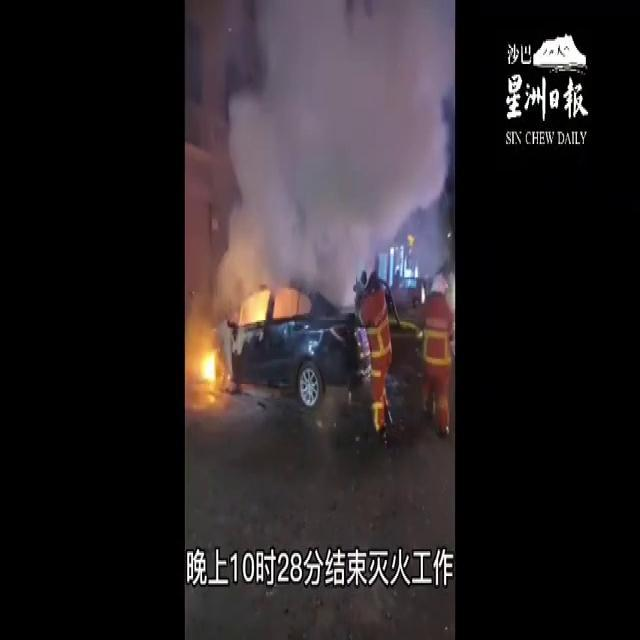Smoke: (200, 0, 454, 292)
